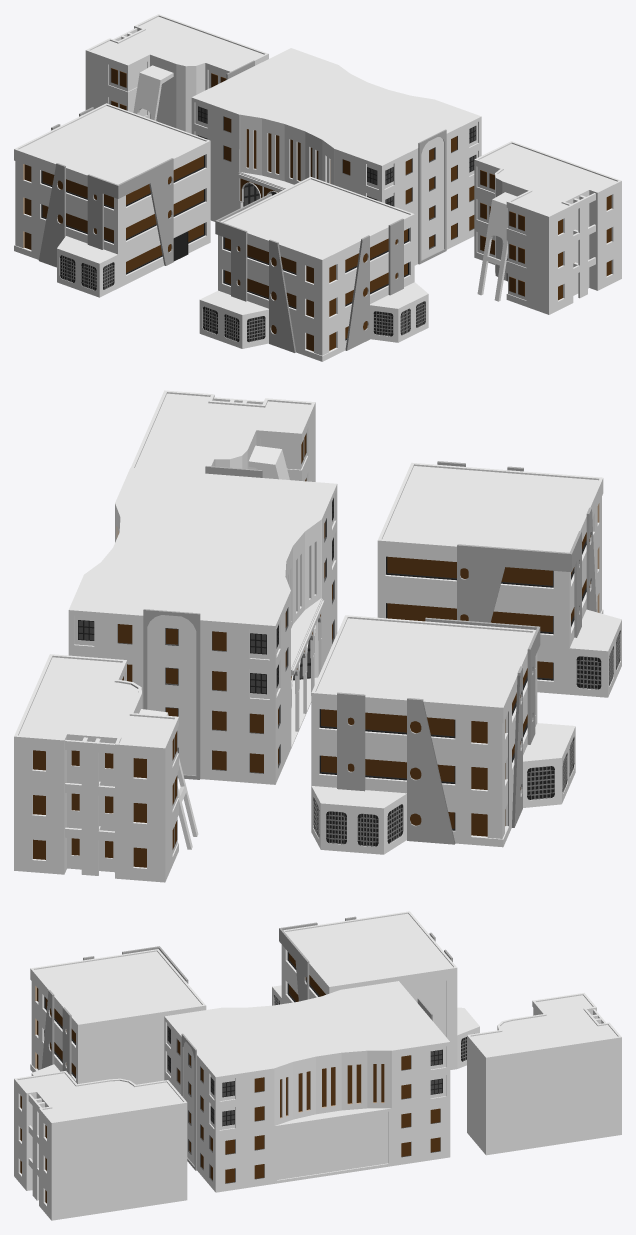
Rendered from faculté math.gltf.
3 renders of one model, top to bottom at view 1: azimuth 30°, elevation 25°; view 2: azimuth 150°, elevation 25°; view 3: azimuth 270°, elevation 25°, orthographic. The views are drawn at different scales.
Parts seen in each view (by area): view 1: fac de math; view 2: fac de math; view 3: fac de math.
Part boxes in pixels (bbox=[...]): fac de math: bbox=[14, 14, 621, 361]; fac de math: bbox=[14, 390, 621, 882]; fac de math: bbox=[14, 911, 621, 1220].
Bounding box in the file's own units: 121 × 32.71 × 150.
1 material, 1 textured.
